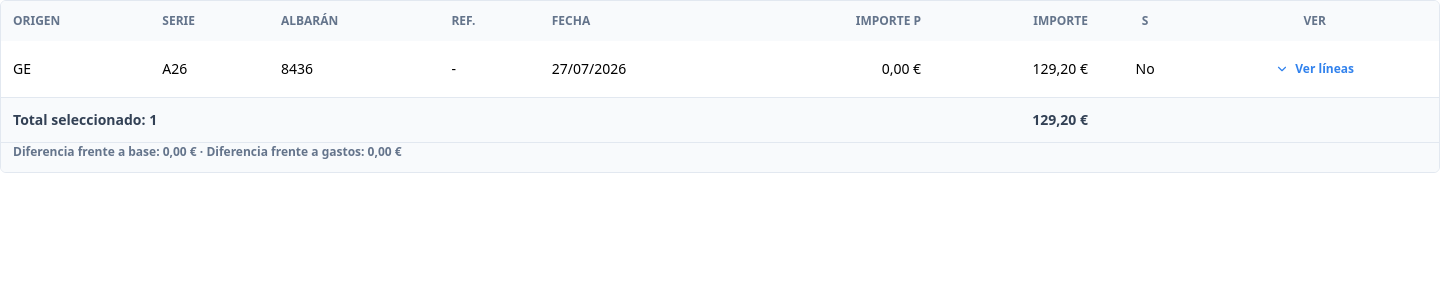
FacturaPunteosTable › muestra las líneas de una entrada nueva pero no permite seleccionarla para ERP
Check: the text titled "referencia de entrada de solo lectura" reads "No", box [1136,59,1155,78]
Click the button "Ver líneas" at (1315, 69), box [1267,53,1362,85]
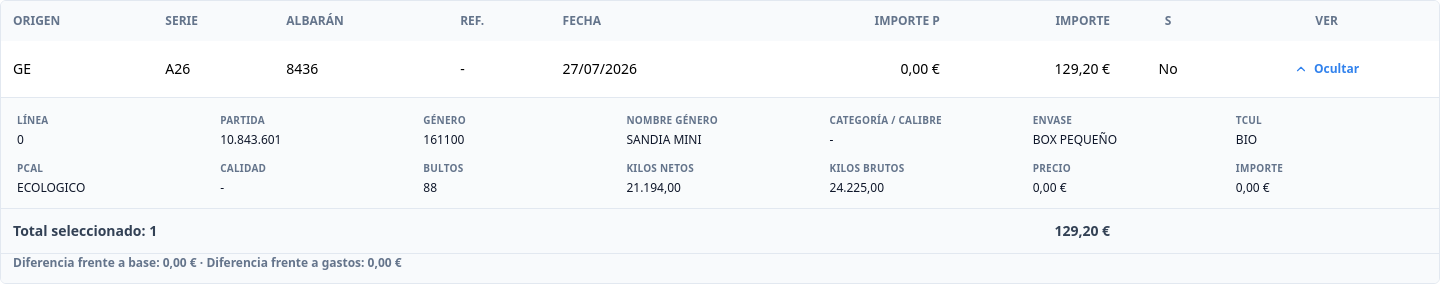
Check: the text "SANDIA MINI" is shown, box [626,131,702,148]
